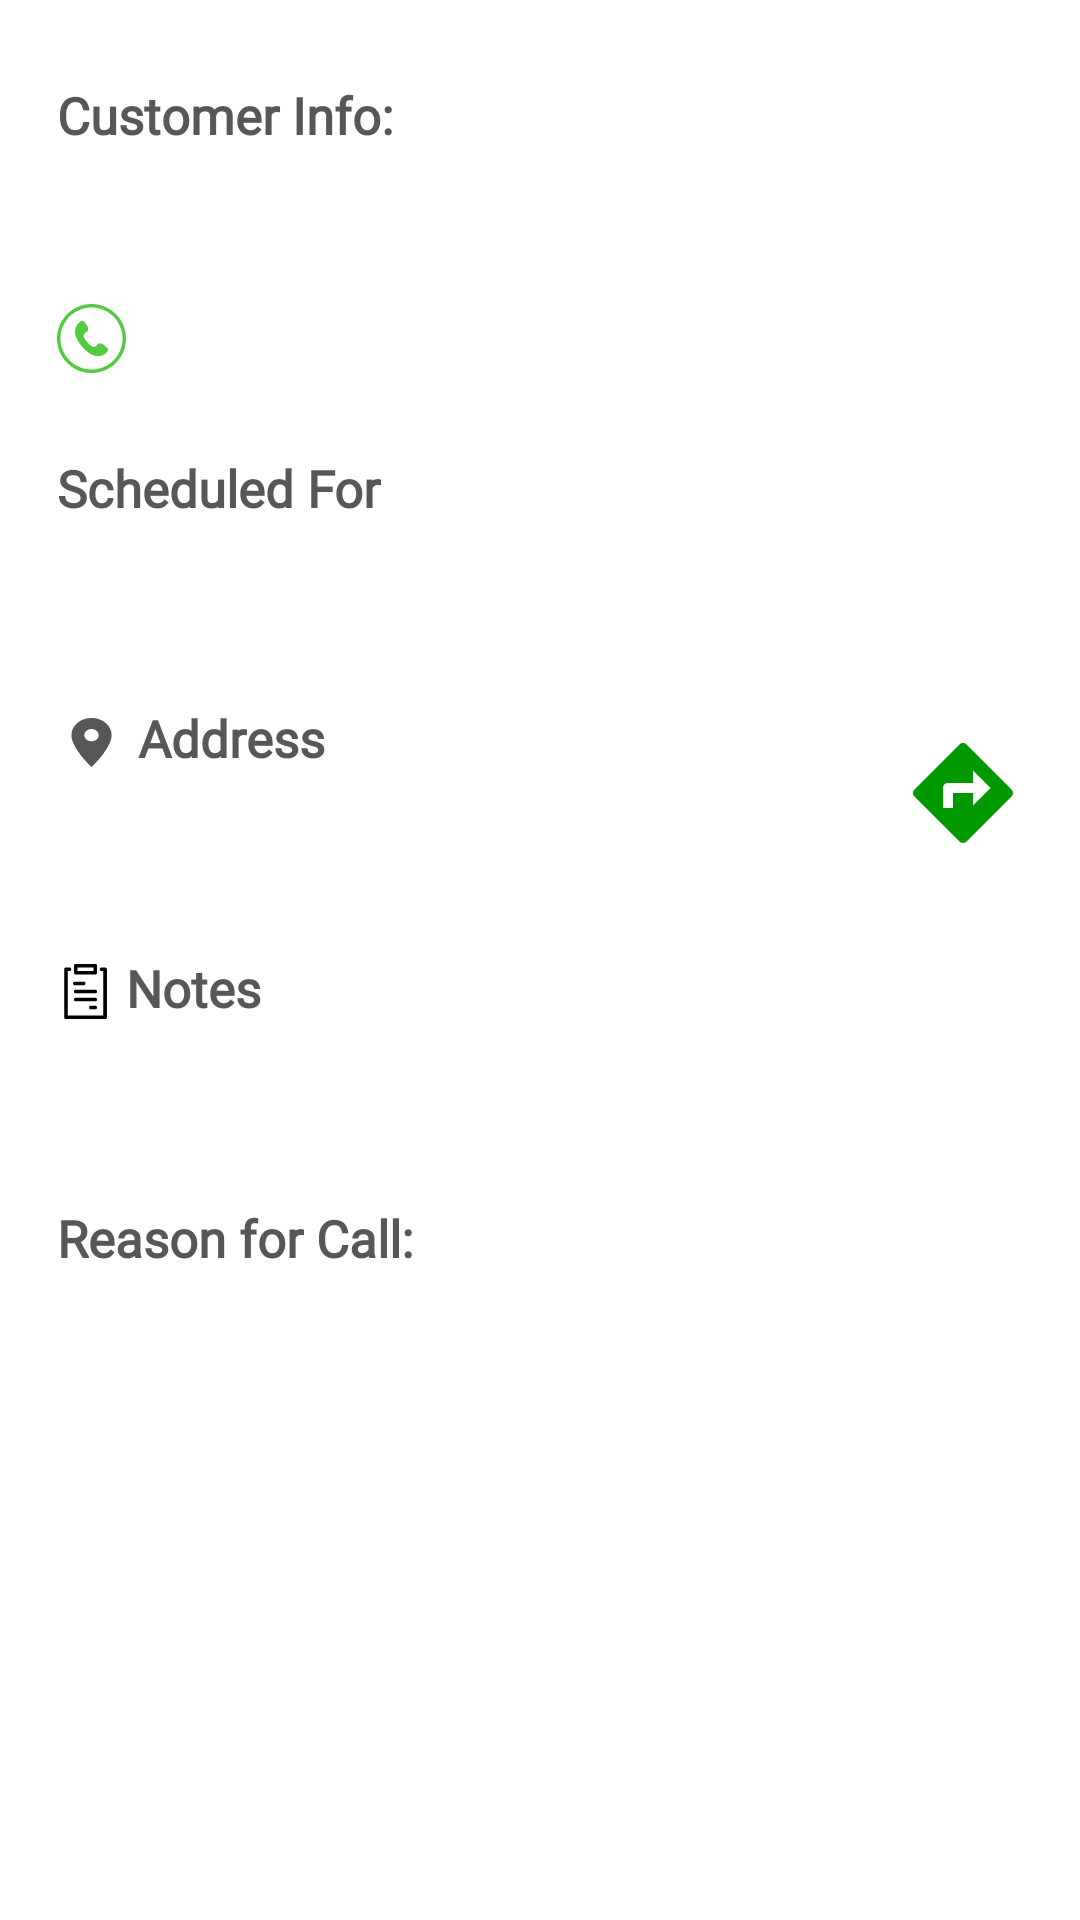

Point at icon controls on the screen. Image size 1080px×1920px, points as point (x, y).
directions: point (963, 793)
phone: point (91, 338)
